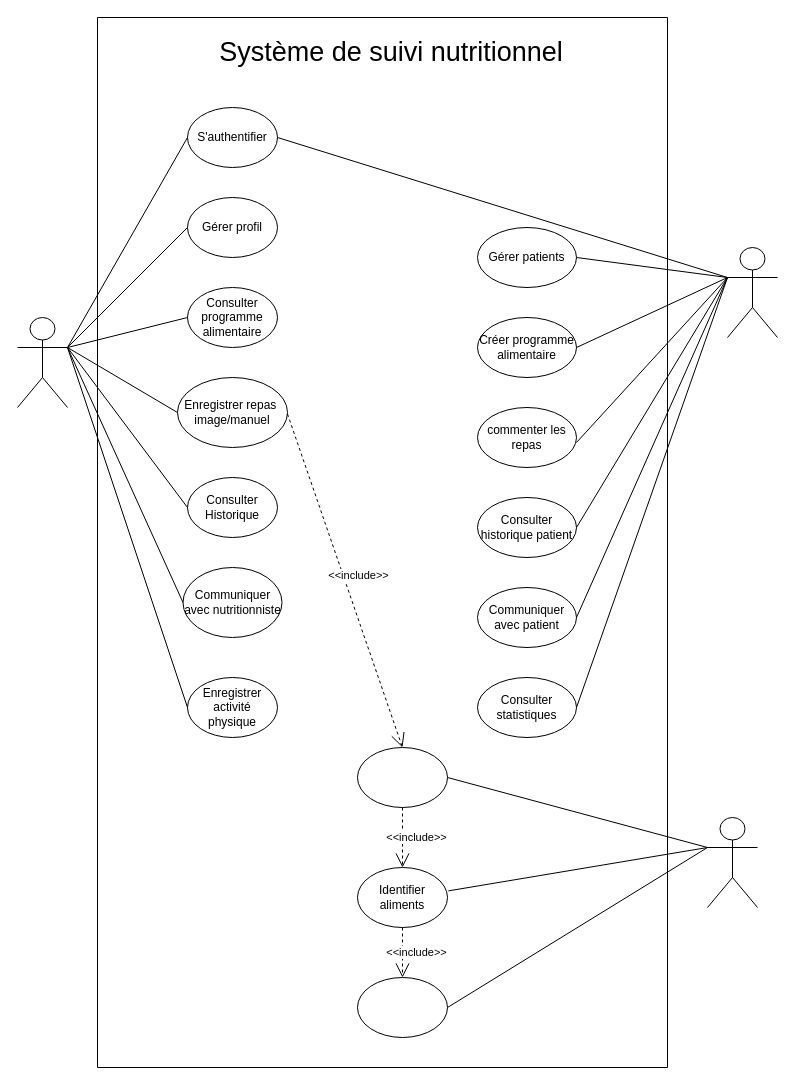
The diagram is 805 pixels wide and 1085 high, and some of its shapes have lost their labels. Each missing label, with the centre of its shape:
Analyser photographies: the point at 402,777
Estimer valeurs nutritionnelles: the point at 402,1007
Nutritionniste: the point at 752,292
Patient: the point at 42,362
Service IA: the point at 732,862
